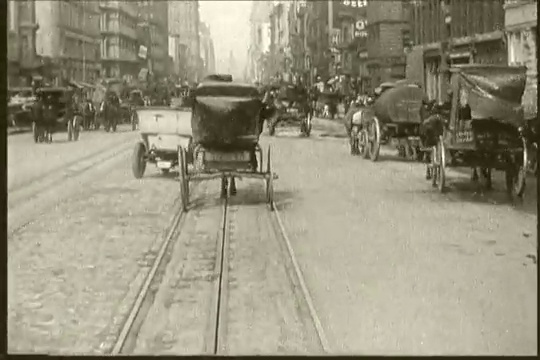car: (121, 96, 213, 184)
carriage: (415, 55, 530, 202), (167, 73, 277, 225), (339, 76, 444, 170), (258, 75, 321, 144), (27, 80, 83, 154), (80, 78, 114, 141)
